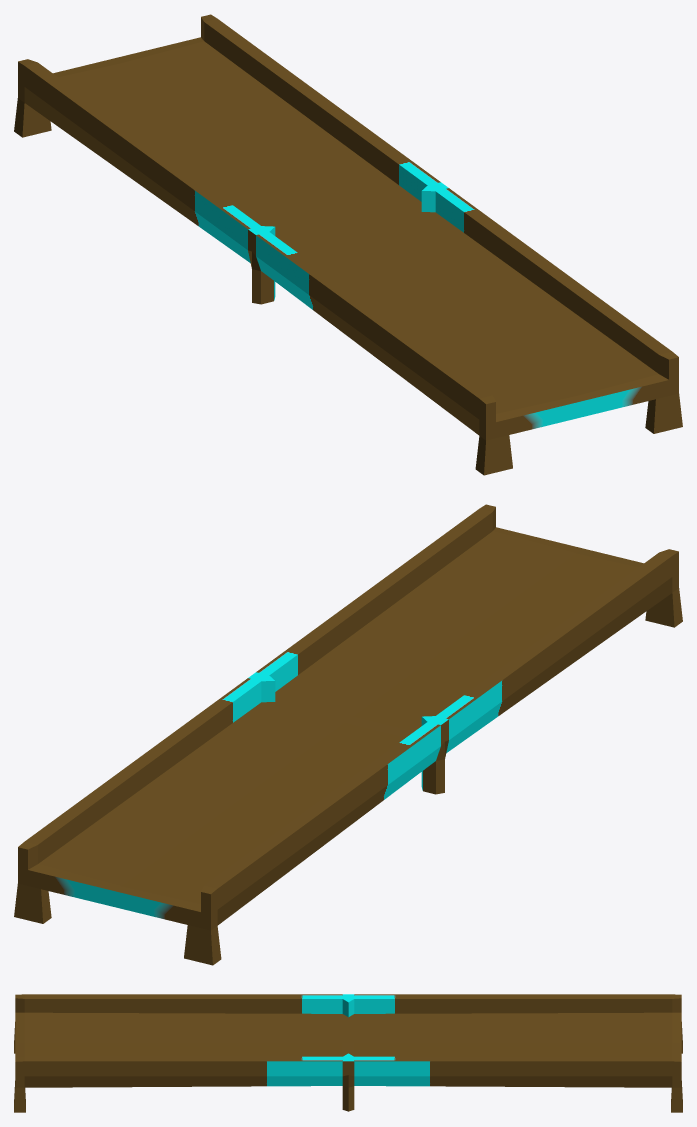
File: conbair.fbx
3 views of the same model, one above another, from view 1: azimuth 30°, elevation 25°; view 2: azimuth 150°, elevation 25°; view 3: azimuth 270°, elevation 25° (orthographic). The views are drawn at different scales.
Parts seen in each view (by area): view 1: Cube; view 2: Cube; view 3: Cube.
Boxes of the visible parts, bbox=[...] form: Cube: bbox=[14, 14, 682, 475]; Cube: bbox=[14, 504, 682, 965]; Cube: bbox=[14, 994, 682, 1112].
Size of the model in its own units: 68.88 by 23.34 by 282.
